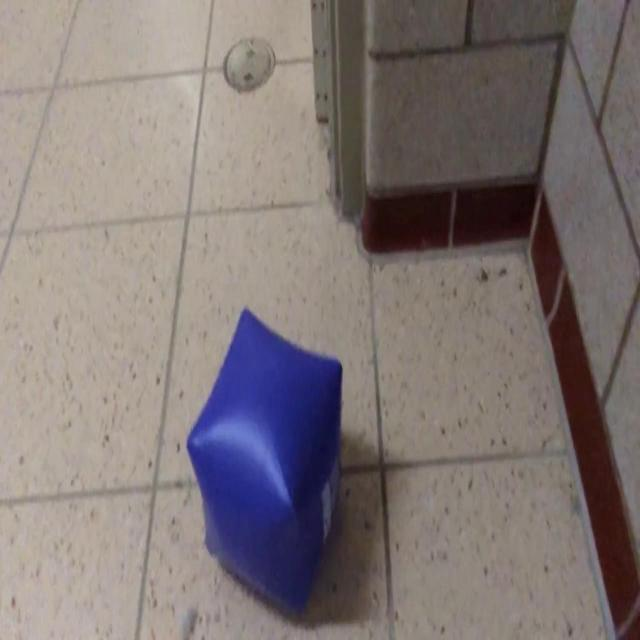frc_cube: (189, 308, 343, 610)
